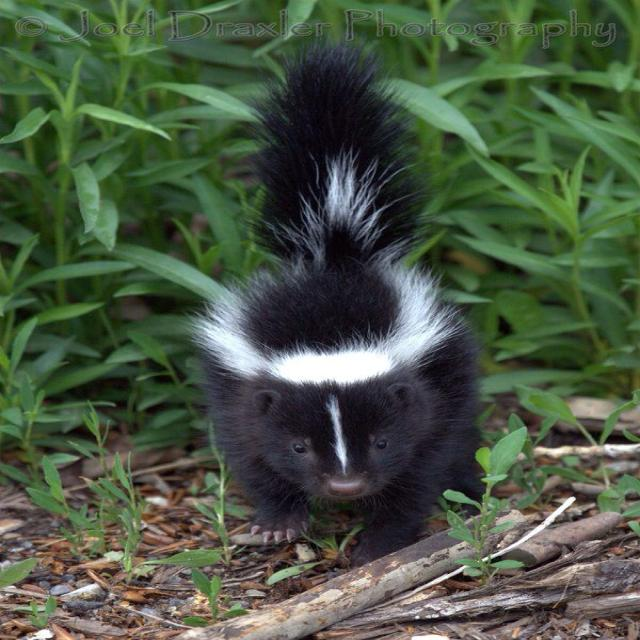Skunk: (155, 20, 513, 548)
